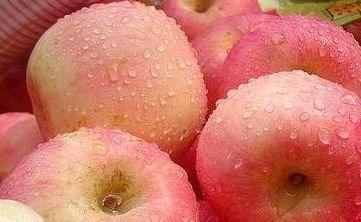apple: (25, 2, 207, 157), (194, 70, 361, 222), (1, 128, 198, 222), (211, 15, 361, 102), (160, 1, 263, 41)
